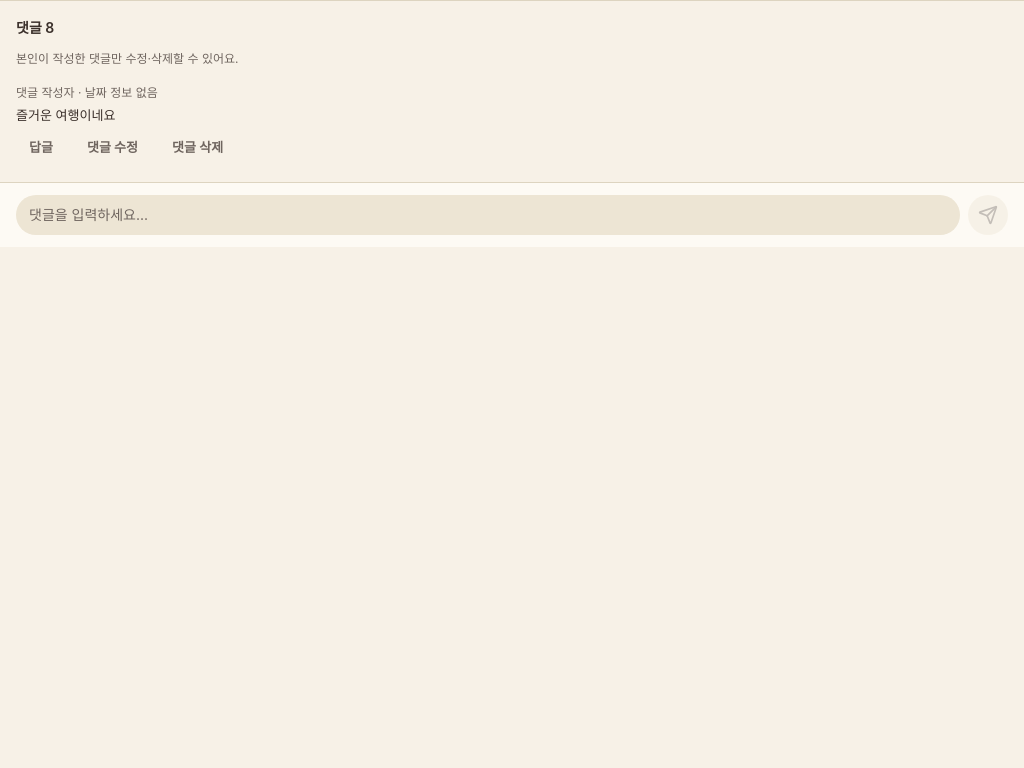
Test: persisted post comments › clears a previous permission error when opening another edit
The image size is (1024, 768).
Click the button "댓글 수정" at (112, 148), box [74, 130, 151, 166]
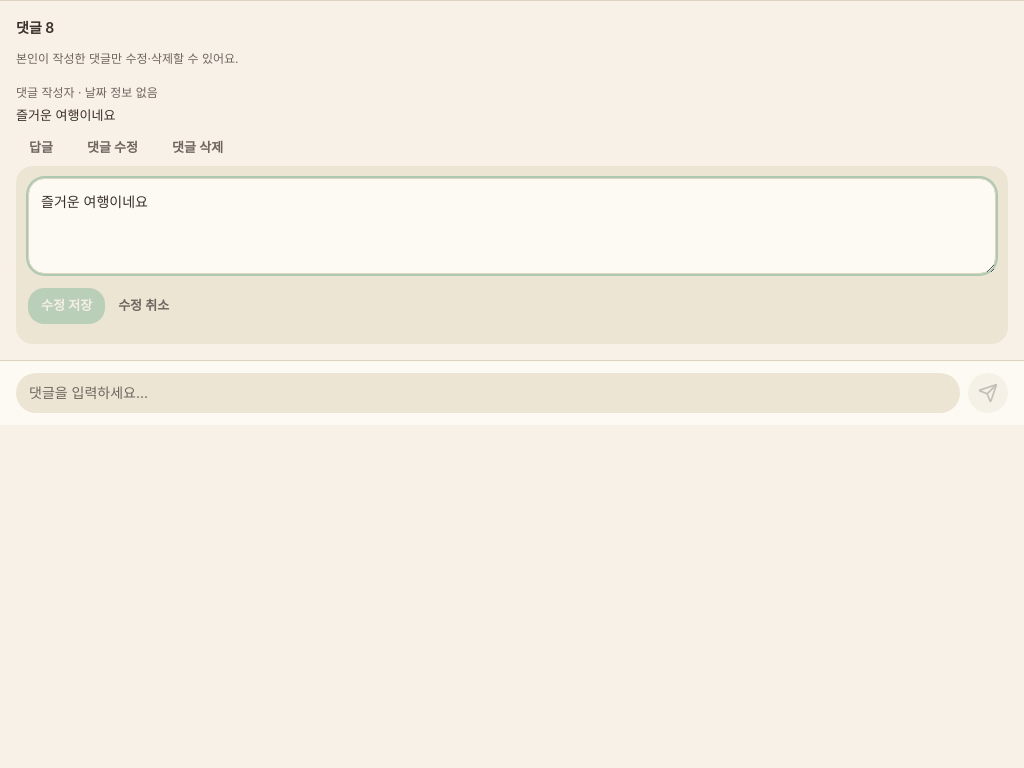
Type " 수정" into the text box named "수정할 댓글 내용" at (512, 226), box [28, 178, 996, 274]
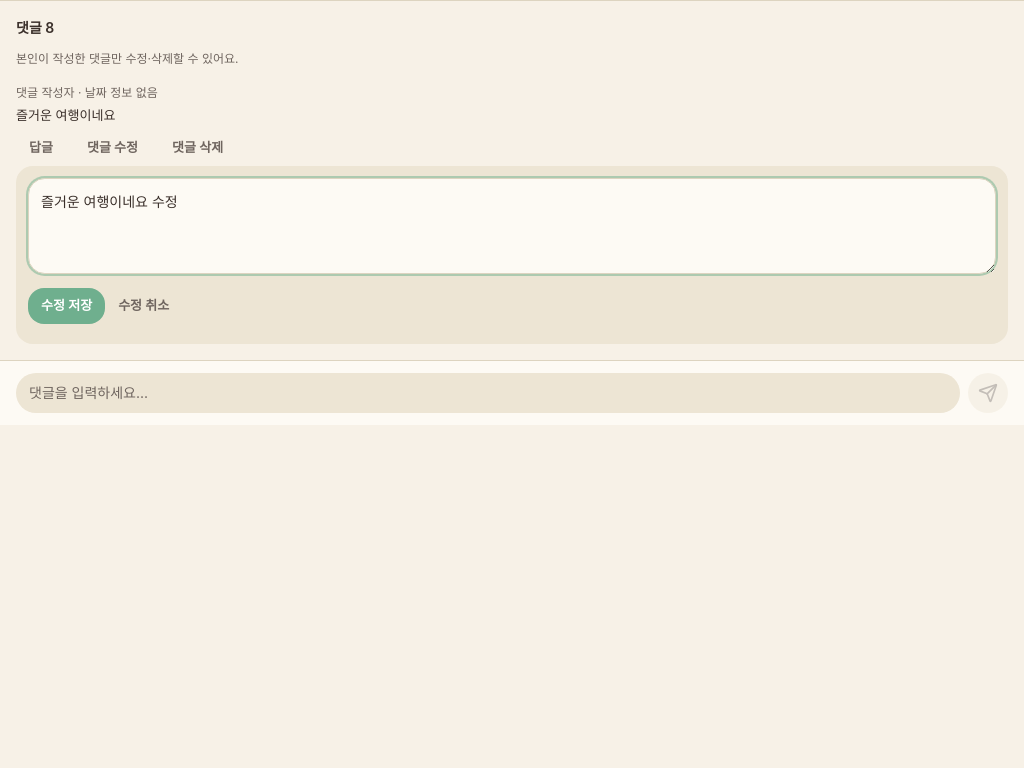
Click the button "수정 저장" at (67, 306), box [28, 288, 105, 324]
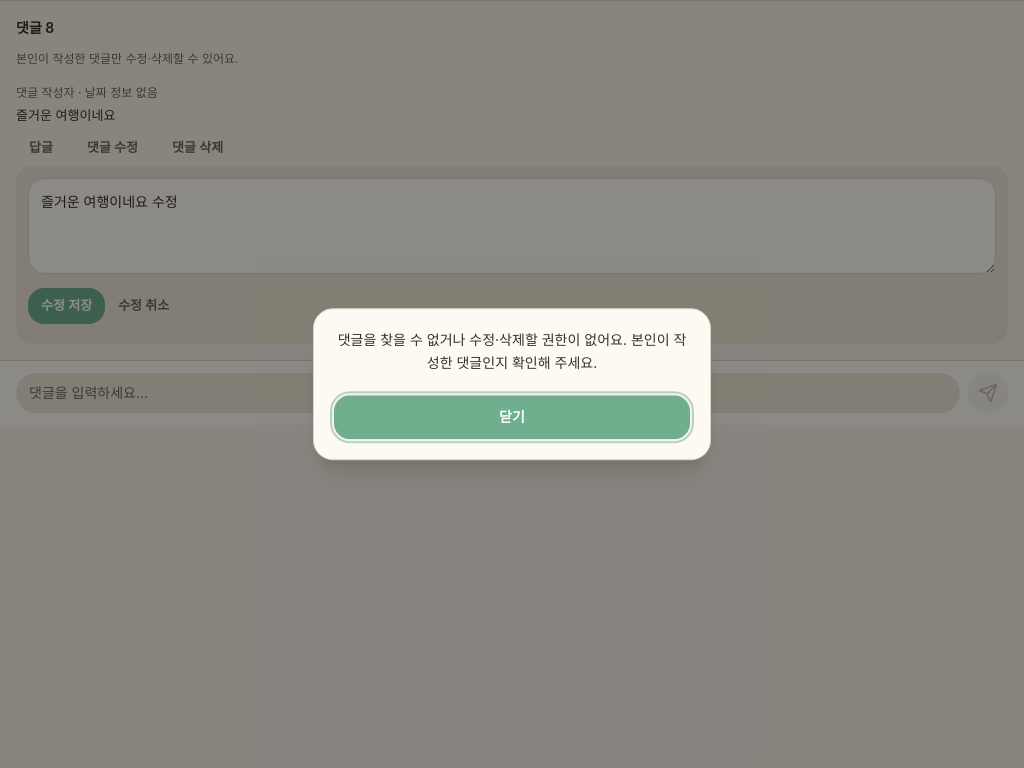
Click the button "닫기" at (512, 417), box [334, 395, 690, 439]
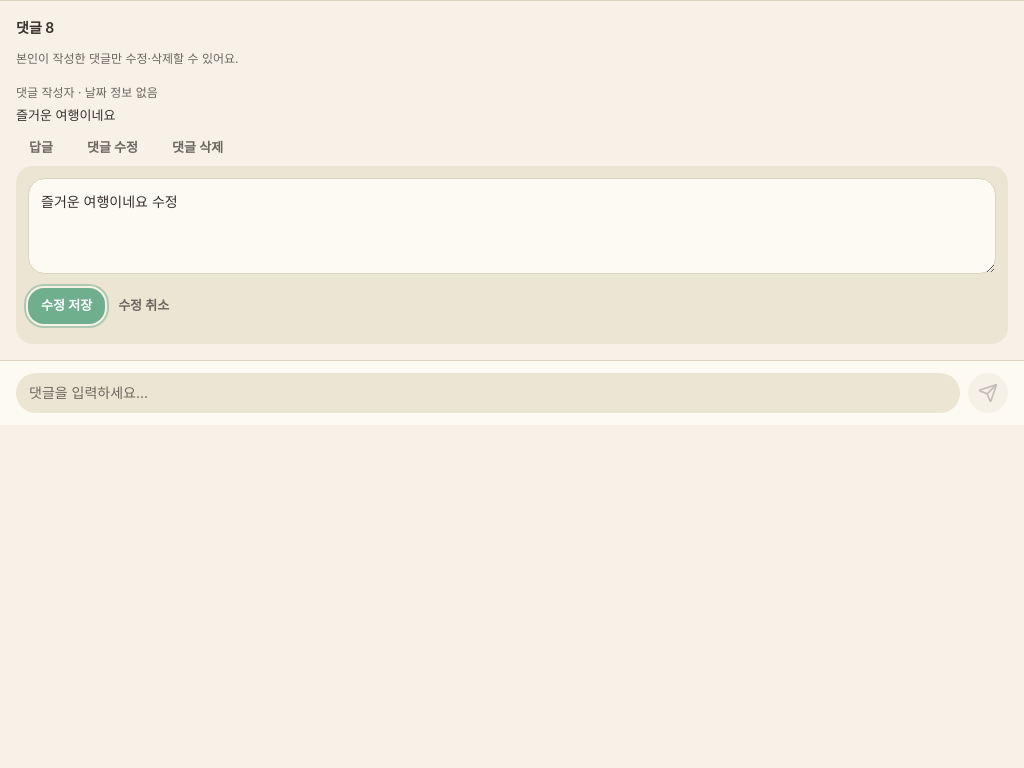
Click the button "수정 취소" at (144, 306), box [105, 288, 182, 324]
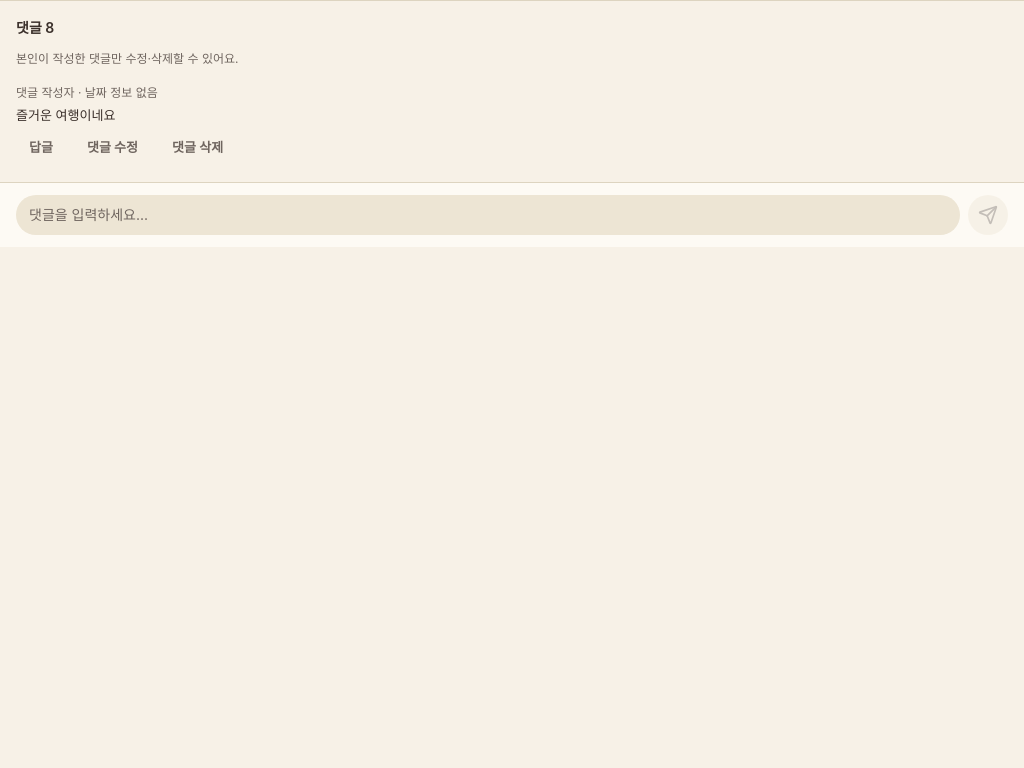
Click the button "댓글 수정" at (112, 148), box [74, 130, 151, 166]
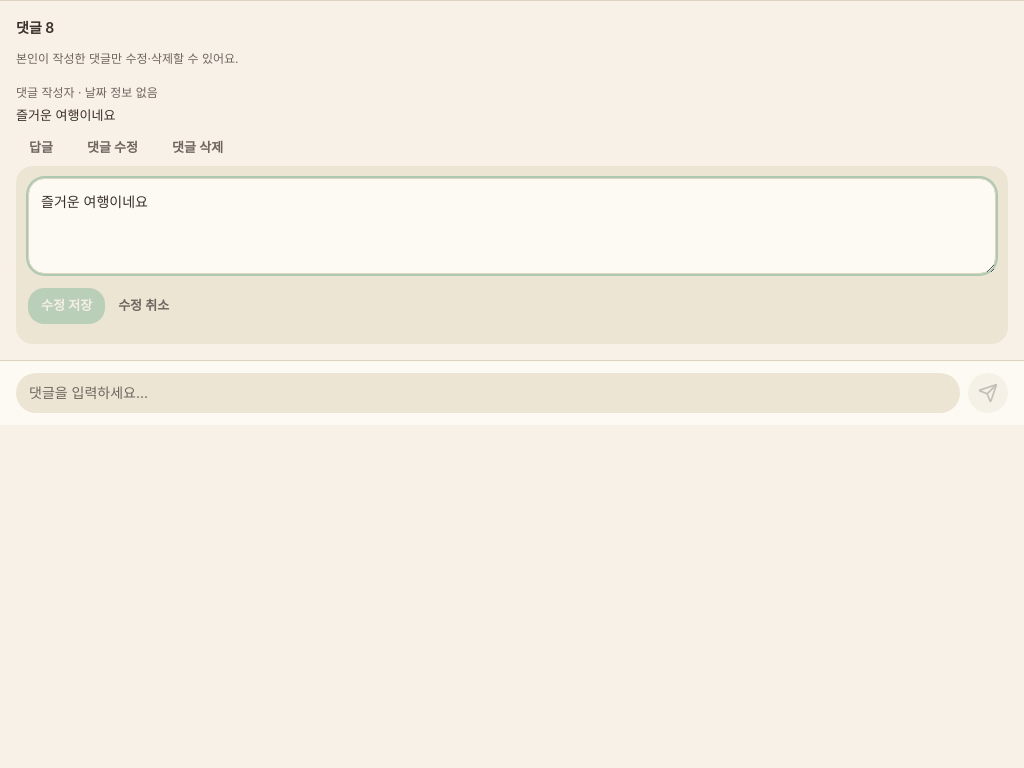
Check: the text box named "수정할 댓글 내용" holds "즐거운 여행이네요", box [28, 178, 996, 274]
